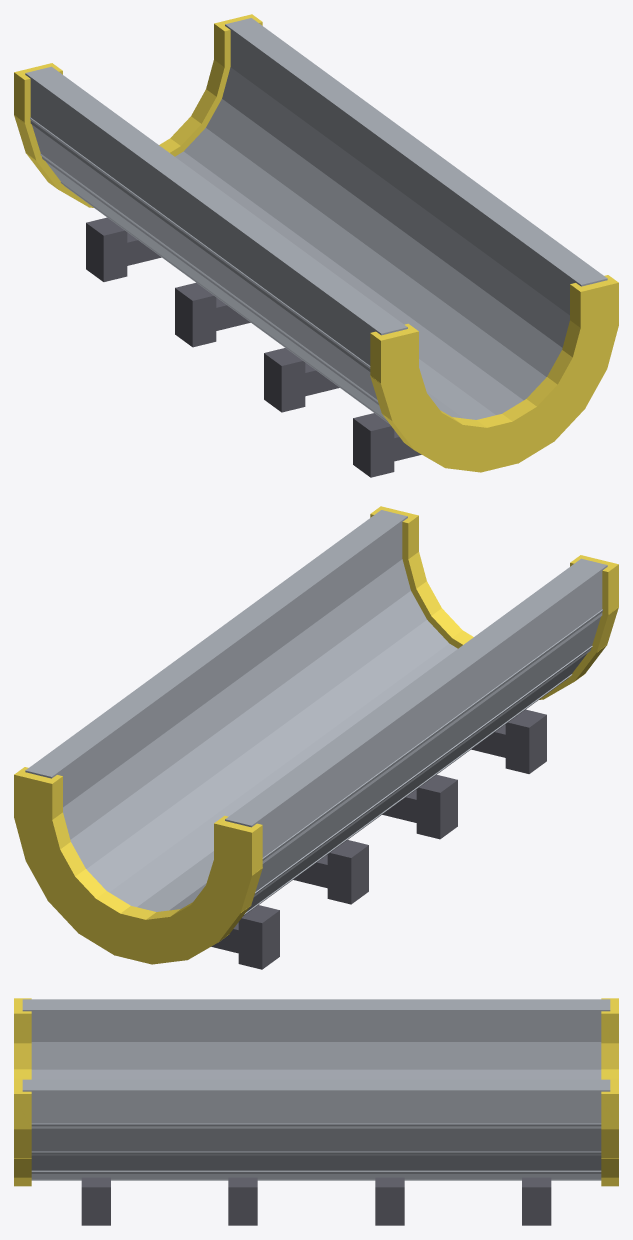
Rendered from chute.glb.
3 renders of one model, top to bottom at view 1: azimuth 30°, elevation 25°; view 2: azimuth 150°, elevation 25°; view 3: azimuth 270°, elevation 25°, orthographic. The views are drawn at different scales.
Visible parts, largest first — view 1: chute; view 2: chute; view 3: chute.
Part boxes in pixels (left/top/right/bottom): chute: left=14, top=14, right=618, bottom=477; chute: left=14, top=506, right=618, bottom=969; chute: left=14, top=998, right=618, bottom=1225.
Bounding box in the file's own units: 0.75 × 0.53 × 2.
